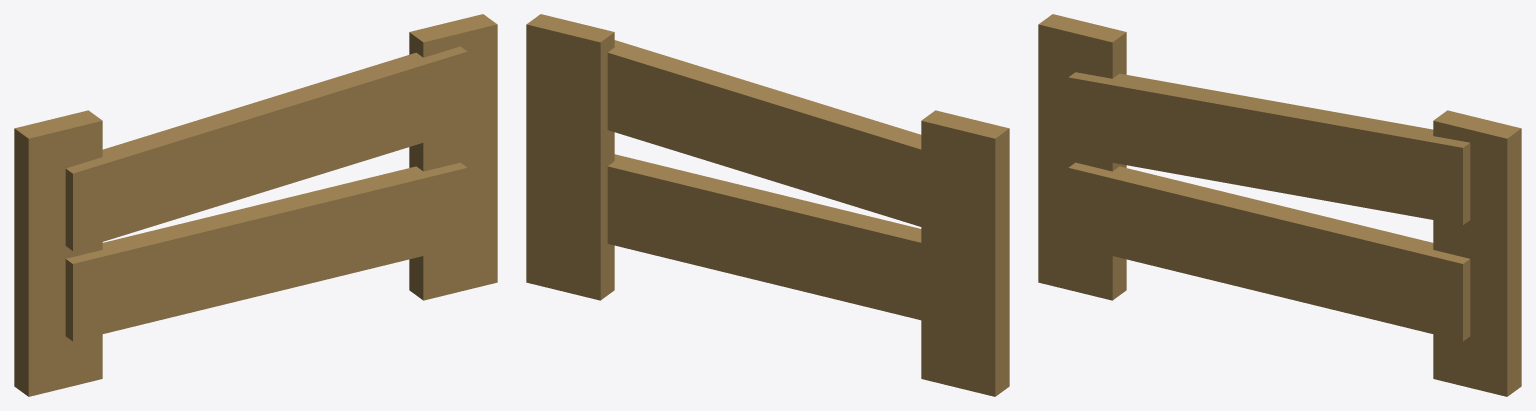
File: fense_normal.gltf
3 views of the same model, side by side, from view 1: azimuth 30°, elevation 25°; view 2: azimuth 150°, elevation 25°; view 3: azimuth 330°, elevation 25° (orthographic).
Bounding box in the file's own units: 2.38 × 1.25 × 0.1875.
1 material, 1 textured.
